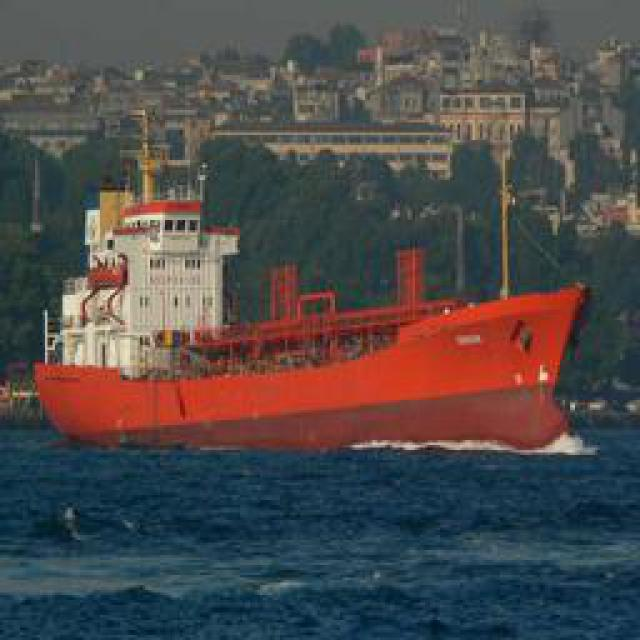Ship: (29, 271, 612, 456)
